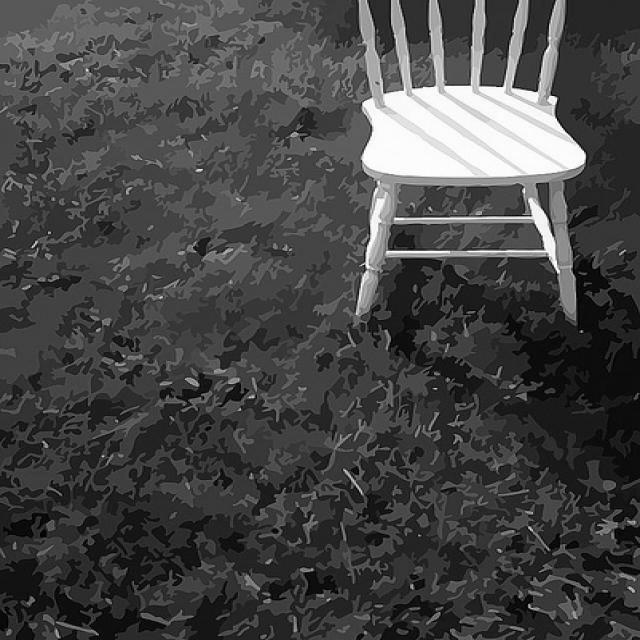chair: (354, 0, 583, 327)
